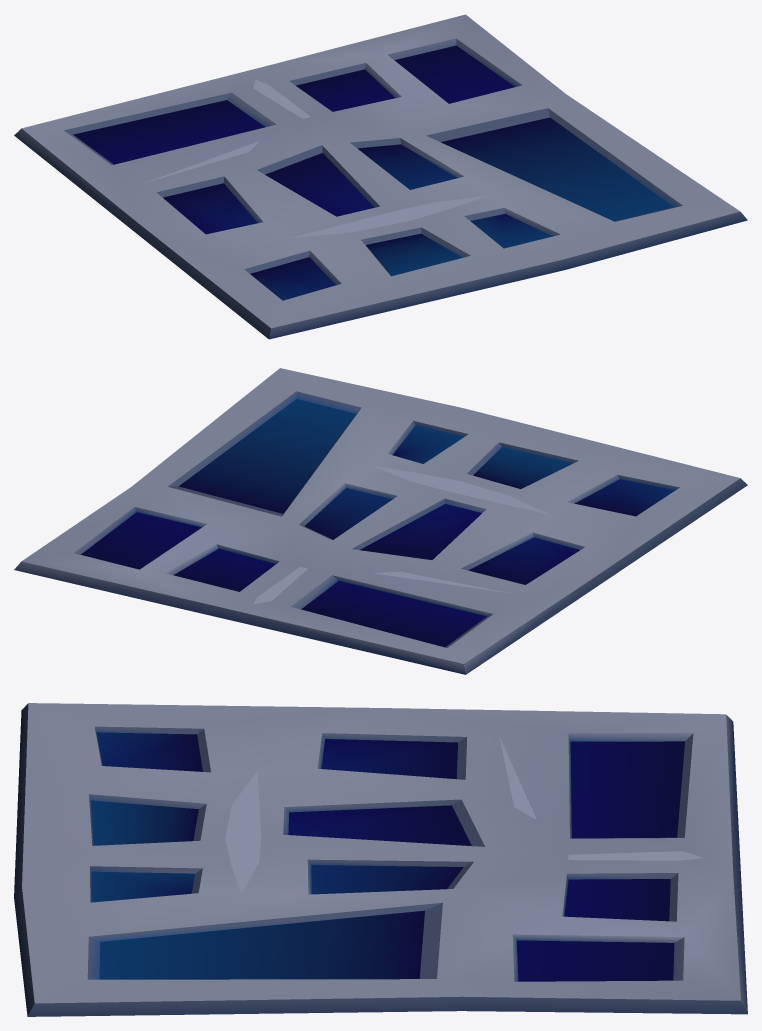
The model's file is prop-lane_grate.glb.
3 views of the same model, one above another, from view 1: azimuth 30°, elevation 25°; view 2: azimuth 150°, elevation 25°; view 3: azimuth 270°, elevation 25° (orthographic). The views are drawn at different scales.
Parts seen in each view (by area): view 1: prop-lane_grate; view 2: prop-lane_grate; view 3: prop-lane_grate.
Part boxes in pixels (<box>): prop-lane_grate: <box>14,14,747,339</box>; prop-lane_grate: <box>14,368,747,674</box>; prop-lane_grate: <box>14,703,747,1016</box>.
Size of the model in its own units: 2.22 by 0.0353 by 2.24.
